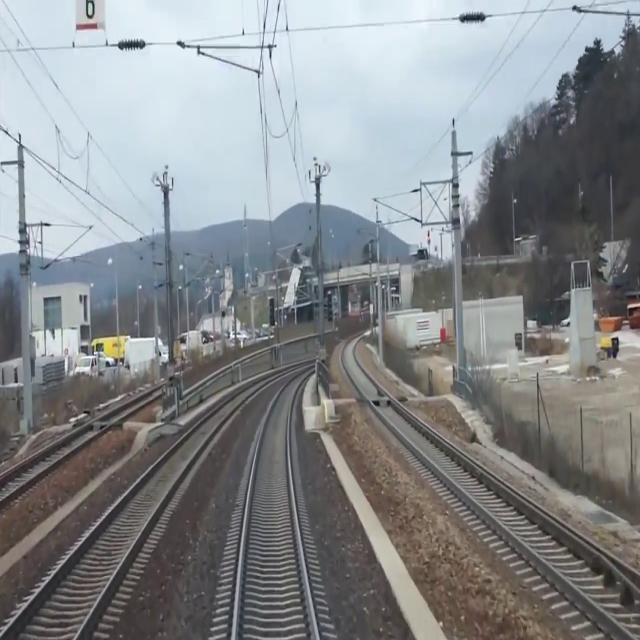rail-track: (343, 338, 640, 635), (2, 391, 246, 639), (236, 375, 315, 639), (0, 386, 164, 495)
